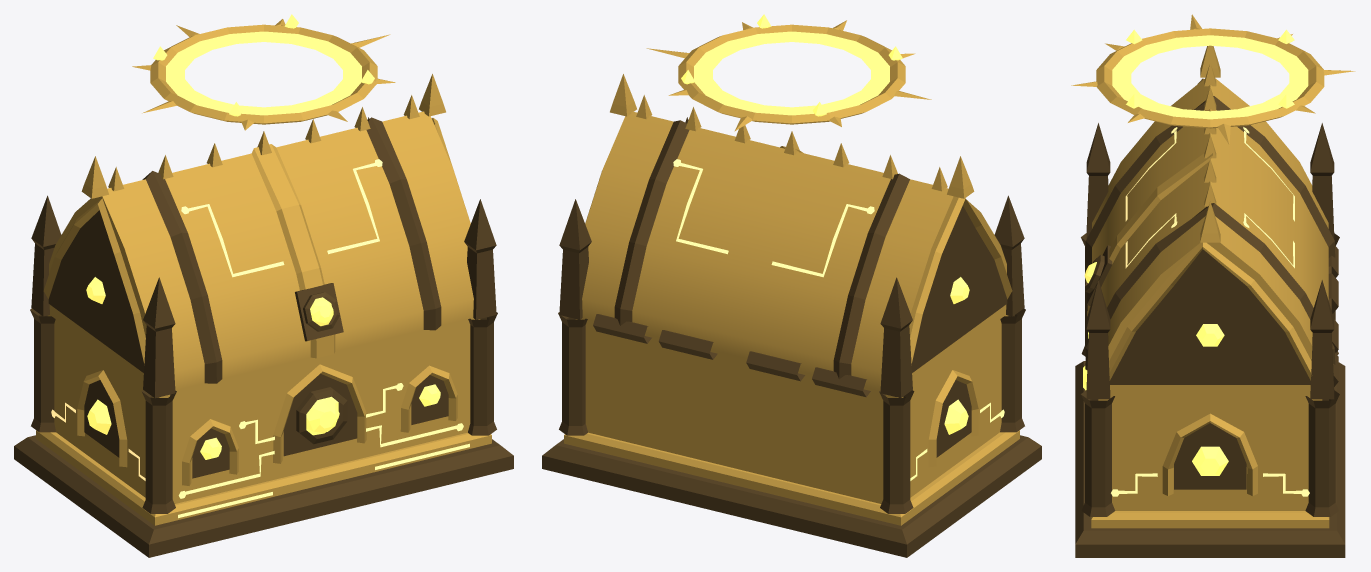
Rendered from chest.glb.
3 renders of one model, left to right at view 1: azimuth 30°, elevation 25°; view 2: azimuth 150°, elevation 25°; view 3: azimuth 270°, elevation 25°, orthographic.
Visible parts, largest first — view 1: CHEST_LID, CHEST_BODY, CHEST_HALO; view 2: CHEST_LID, CHEST_BODY, CHEST_HALO; view 3: CHEST_LID, CHEST_BODY, CHEST_HALO.
Boxes of the visible parts, left/top/right/bottom form: CHEST_LID: left=31, top=74, right=496, bottom=398; CHEST_BODY: left=14, top=308, right=513, bottom=557; CHEST_HALO: left=132, top=14, right=395, bottom=130; CHEST_LID: left=559, top=74, right=1024, bottom=398; CHEST_BODY: left=542, top=308, right=1041, bottom=557; CHEST_HALO: left=646, top=14, right=931, bottom=131; CHEST_LID: left=1084, top=45, right=1338, bottom=399; CHEST_BODY: left=1075, top=233, right=1345, bottom=557; CHEST_HALO: left=1071, top=14, right=1355, bottom=145.
Size of the model in its own units: 1 by 1.06 by 0.6781.
